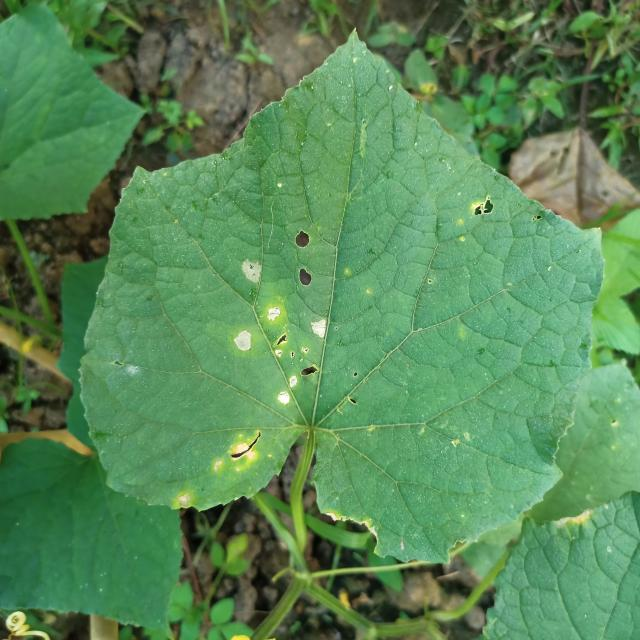disease_cucumber: (228, 250, 333, 417)
